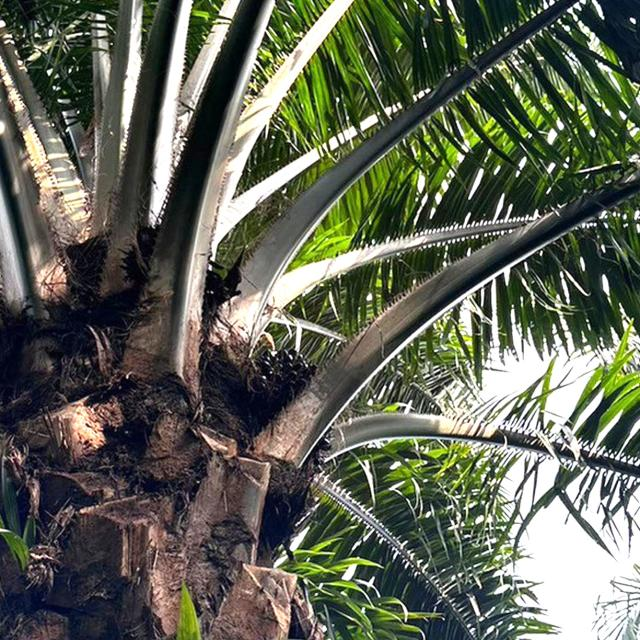almost: (233, 336, 343, 473)
